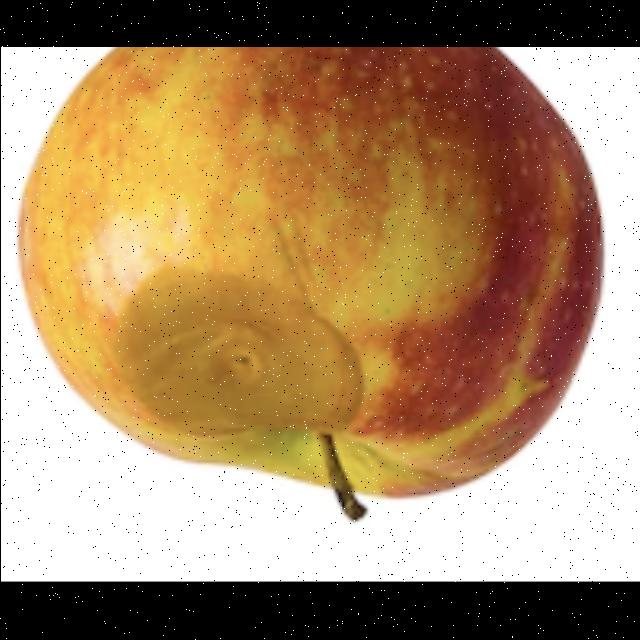Apel Tidak Segar: (14, 46, 611, 512)
